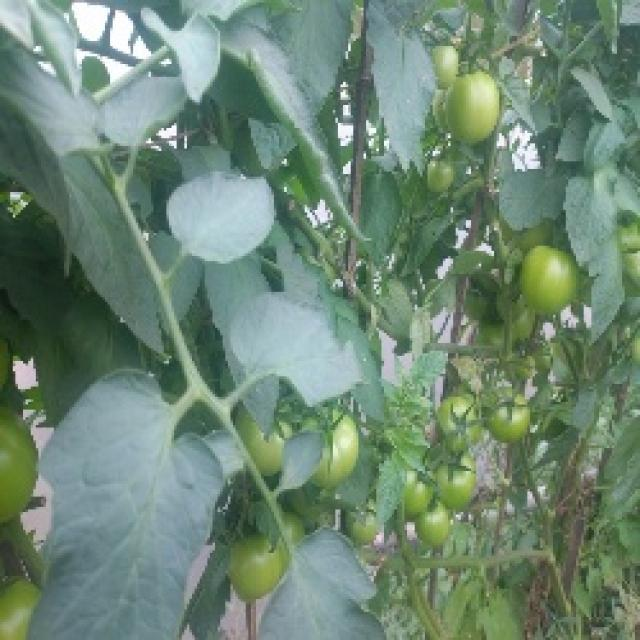tomato: (1, 393, 44, 547), (515, 241, 587, 319), (232, 413, 298, 486), (443, 72, 505, 149), (313, 394, 362, 491), (228, 527, 285, 608), (434, 382, 492, 449), (430, 450, 484, 515), (1, 569, 45, 640), (488, 389, 535, 447), (414, 497, 460, 554), (395, 471, 430, 530), (419, 159, 467, 197), (433, 37, 467, 89)
